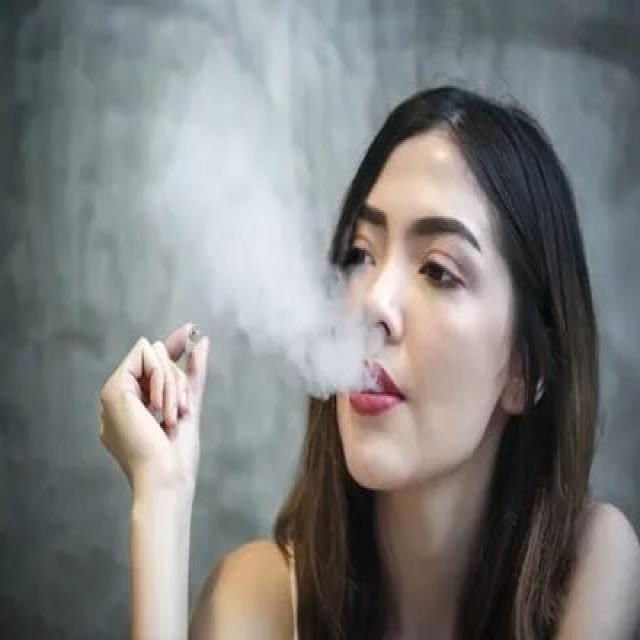smoke: (185, 320, 205, 360)
